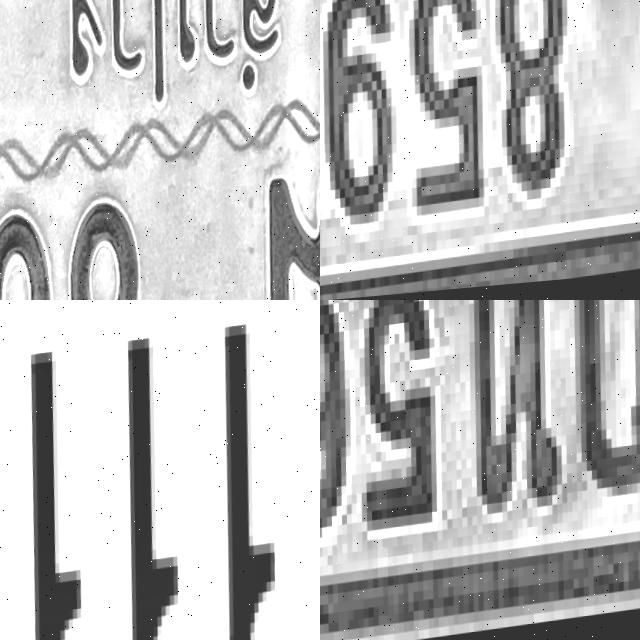license-plate: (0, 300, 320, 640), (320, 300, 640, 640), (0, 0, 320, 300), (320, 0, 640, 300)
